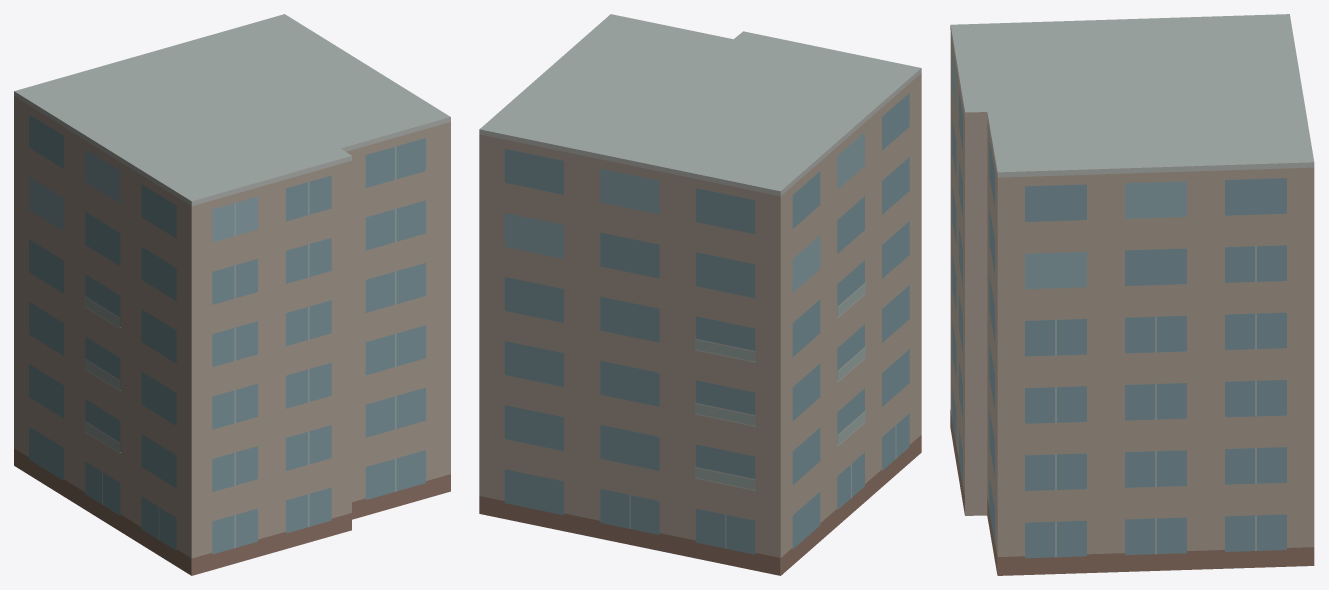
Rendered from survey-upis-32739402.glb.
The picture shows the model from 3 angles, left to right: view 1: azimuth 30°, elevation 25°; view 2: azimuth 150°, elevation 25°; view 3: azimuth 270°, elevation 25°; orthographic projection. The views are drawn at different scales.
Visible parts, largest first — view 1: survey-upis-32739402.tmp; view 2: survey-upis-32739402.tmp; view 3: survey-upis-32739402.tmp.
Boxes of the visible parts, x1,y1,x2,y2 form: survey-upis-32739402.tmp: (14, 14, 450, 575); survey-upis-32739402.tmp: (479, 14, 921, 575); survey-upis-32739402.tmp: (950, 14, 1314, 575).
Size of the model in its own units: 15.83 by 18.8 by 15.37.
